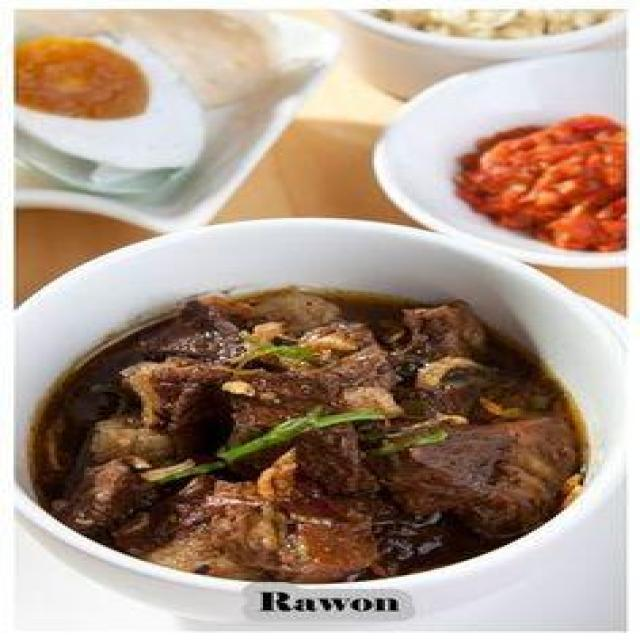Rawon: (46, 290, 575, 571)
